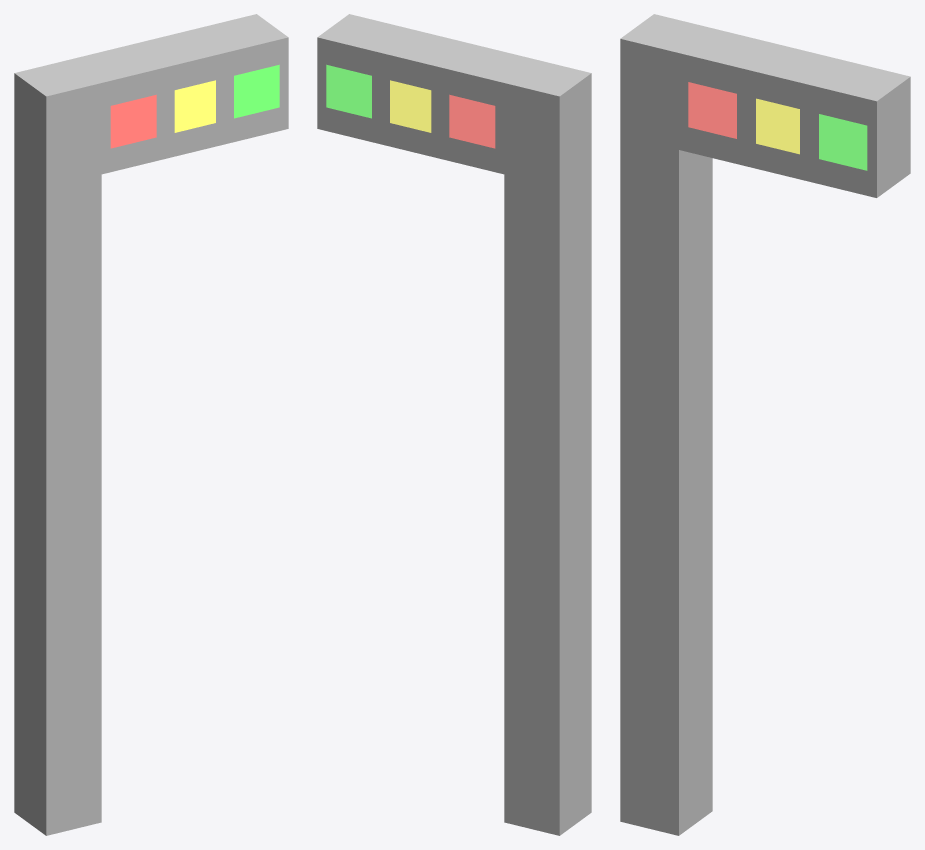
File: semaforo.glb
The picture shows the model from 3 angles, left to right: view 1: azimuth 30°, elevation 25°; view 2: azimuth 150°, elevation 25°; view 3: azimuth 330°, elevation 25°; orthographic projection. The views are drawn at different scales.
Visible parts, largest first — view 1: Cube; view 2: Cube; view 3: Cube.
Part boxes in pixels (<box>): Cube: <box>14,14,288,835</box>; Cube: <box>317,14,591,835</box>; Cube: <box>620,14,910,835</box>.
Size of the model in its own units: 8.76 by 25.53 by 2.
